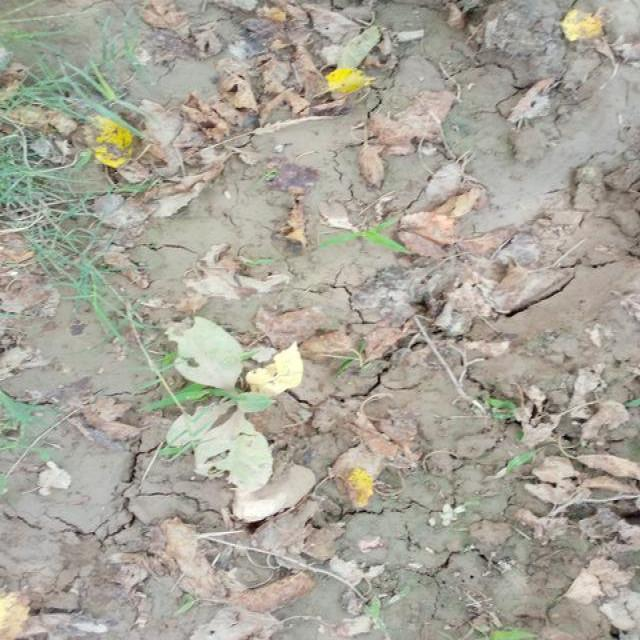crop: (175, 325, 297, 492)
